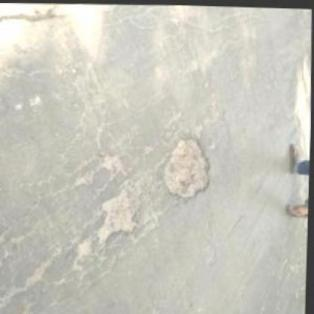Hueco: (160, 136, 214, 202), (97, 187, 139, 248)
